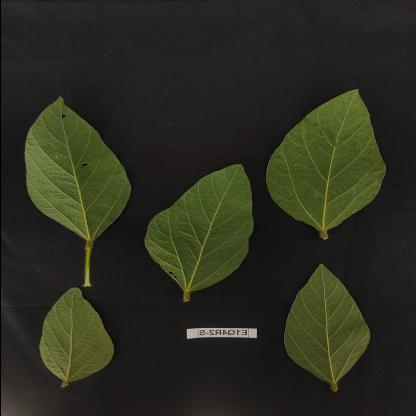label: (181, 322, 256, 358)
leaflets: (266, 85, 394, 242), (17, 86, 126, 252), (148, 150, 250, 298), (280, 264, 392, 394), (19, 286, 131, 393)
